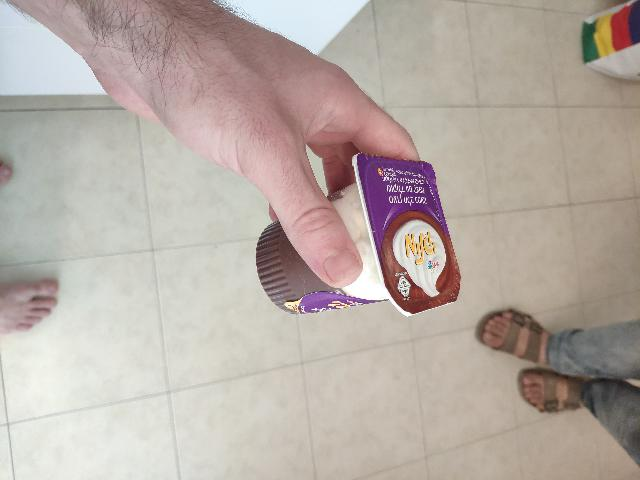milky: (336, 182, 472, 386)
